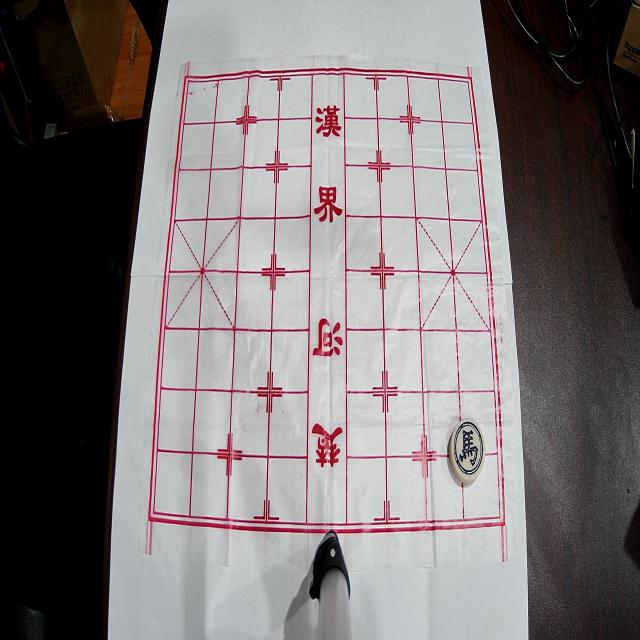black-horse: (449, 418, 485, 483)
